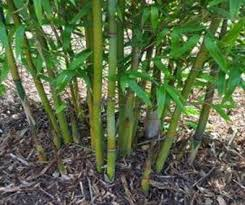bamboo: (37, 1, 203, 159), (4, 4, 234, 106)
